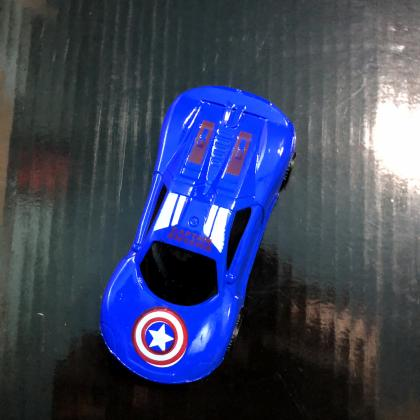Car: (99, 86, 297, 387)
